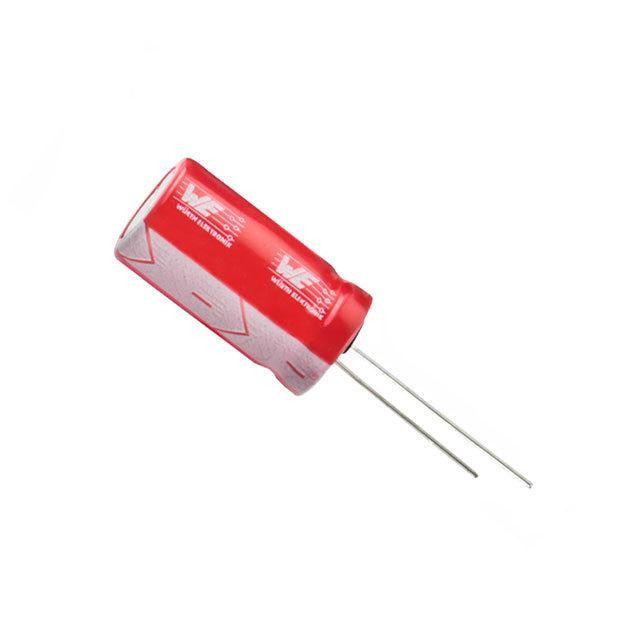Resistor: (113, 157, 373, 398)
